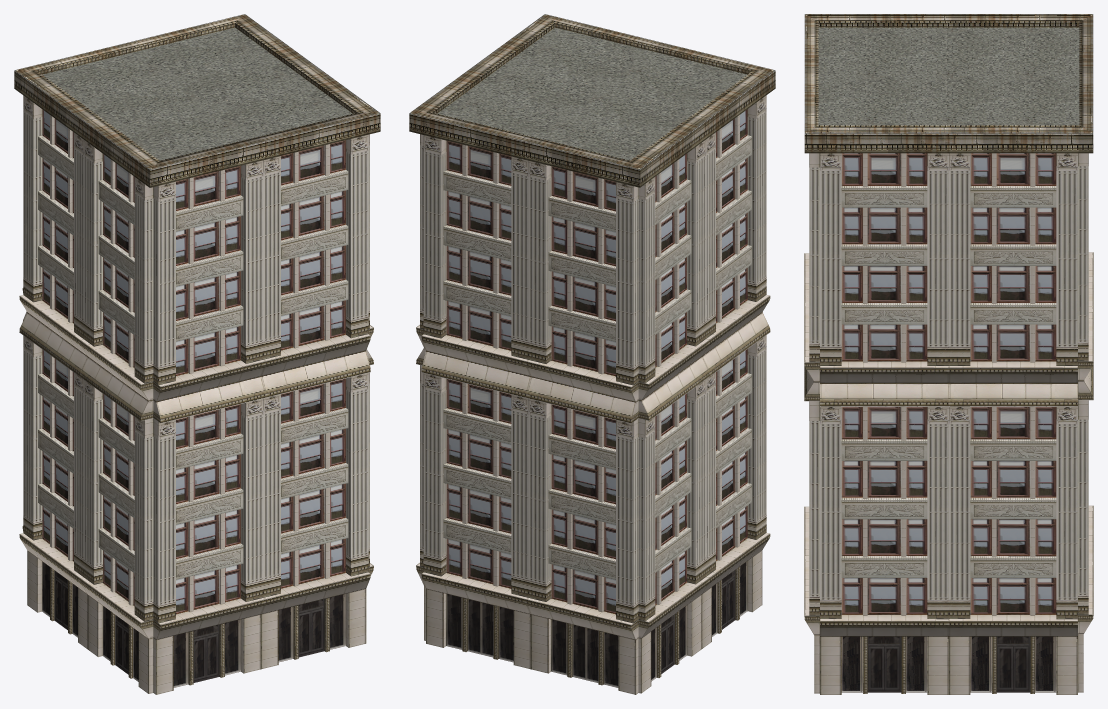
Rendered from Building_17.fbx.
The picture shows the model from 3 angles, left to right: view 1: azimuth 30°, elevation 25°; view 2: azimuth 150°, elevation 25°; view 3: azimuth 270°, elevation 25°; orthographic projection. The views are drawn at different scales.
Visible parts, largest first — view 1: Building_17; view 2: Building_17; view 3: Building_17.
Boxes of the visible parts, x1=… form: Building_17: x1=14, y1=14, x2=380, y2=694; Building_17: x1=409, y1=14, x2=775, y2=694; Building_17: x1=804, y1=14, x2=1093, y2=694.
Size of the model in its own units: 996 by 2166 by 1005.
